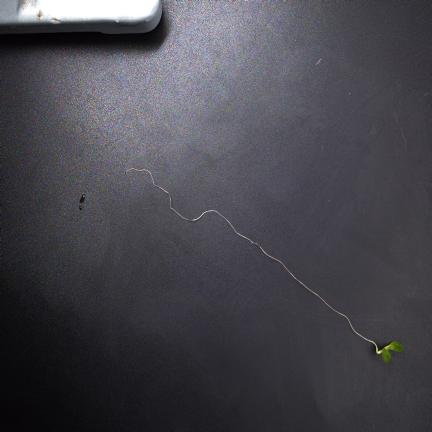leaf1: (382, 349, 391, 362)
leaf2: (387, 342, 403, 352)
root: (125, 168, 362, 338)
stem: (363, 336, 386, 355)
